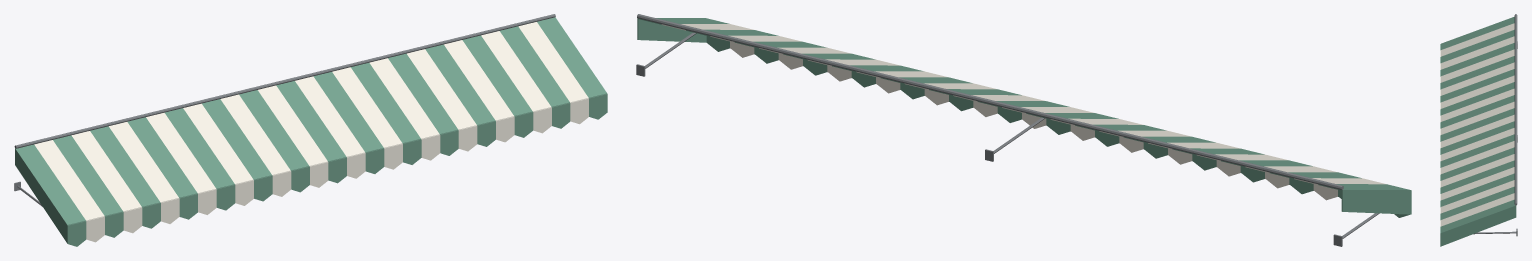
Rendered from awning.glb.
3 views of the same model, side by side, from view 1: azimuth 30°, elevation 25°; view 2: azimuth 150°, elevation 25°; view 3: azimuth 270°, elevation 25° (orthographic). The views are drawn at different scales.
Parts seen in each view (by area): view 1: awning_awn_g, awning_awn_w, awning_steel_d; view 2: awning_awn_g, awning_awn_w, awning_steel_d; view 3: awning_awn_g, awning_awn_w, awning_steel_d.
Boxes of the visible parts, <box> form: awning_awn_g: <box>15,17,607,246</box>; awning_awn_w: <box>34,22,588,242</box>; awning_steel_d: <box>14,14,555,206</box>; awning_awn_g: <box>637,18,1411,217</box>; awning_awn_w: <box>661,24,1386,200</box>; awning_steel_d: <box>636,14,1379,246</box>; awning_awn_g: <box>1440,16,1516,246</box>; awning_awn_w: <box>1440,23,1514,226</box>; awning_steel_d: <box>1473,14,1517,236</box>.
Size of the model in its own units: 8.8 by 1.02 by 1.51.
